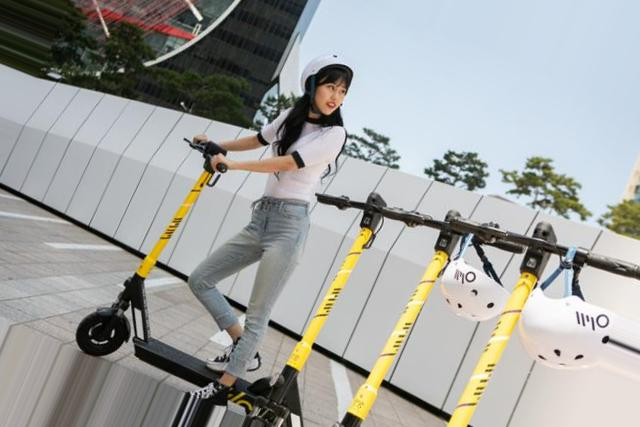scooter: (75, 134, 289, 425)
with helmet: (300, 50, 357, 116)
